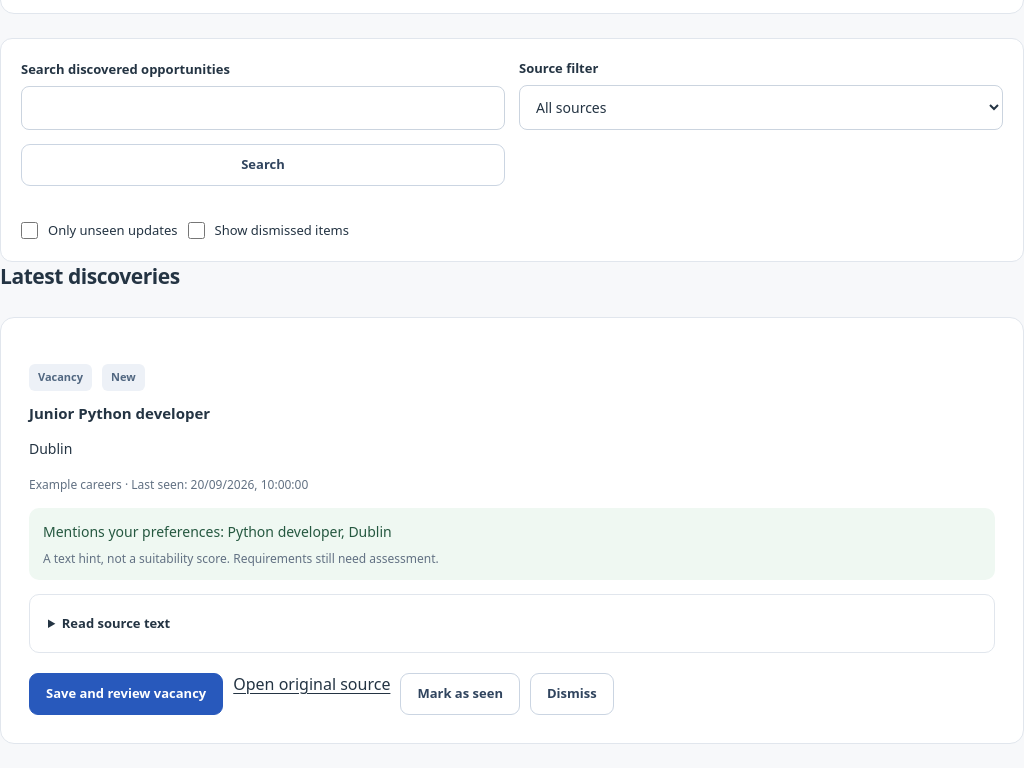
retains filters and source text when a save fails
(page scrolled)
Expected: the heading "Junior Python developer" is shown, [29,403,210,423]
Click the button "Save and review vacancy".
click(126, 694)  # box [29,673,223,715]
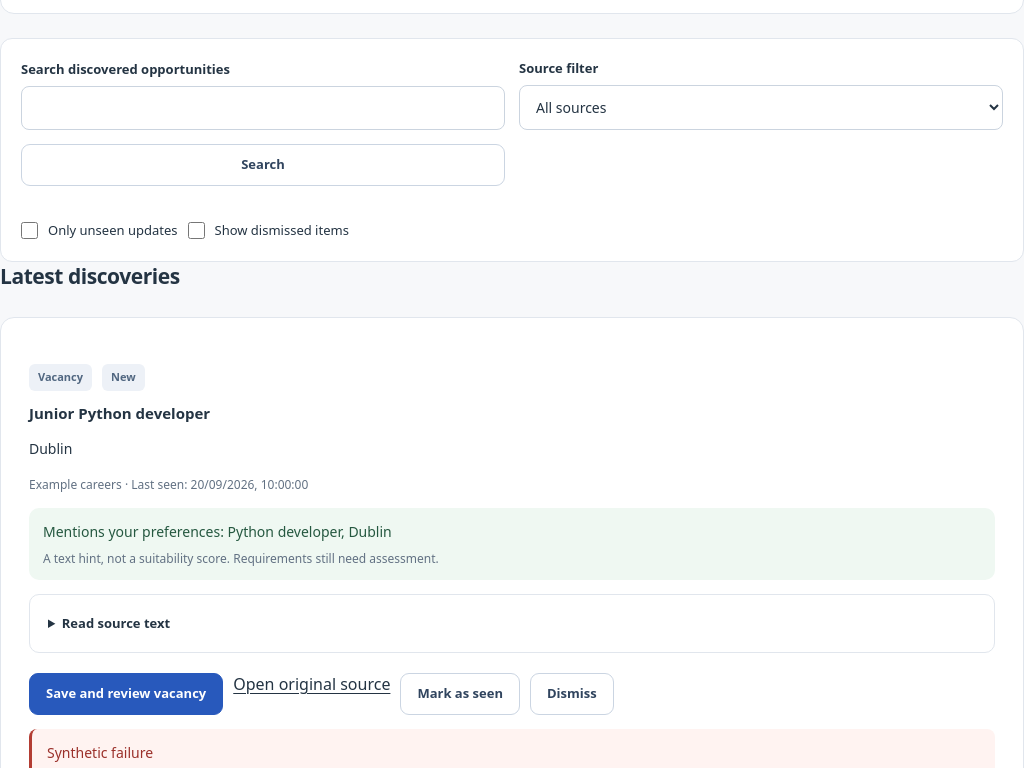
Expected: the heading "Junior Python developer" is shown, [29,403,210,423]
Now the message reads "Synthetic failure", box [47,743,153,762]
